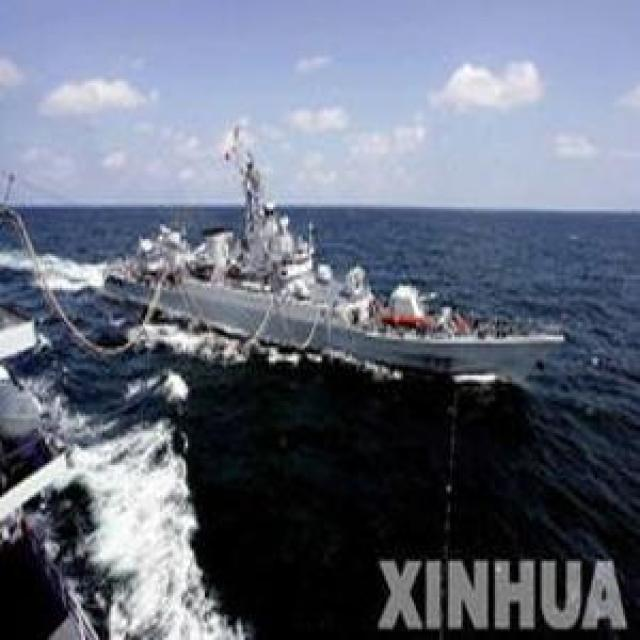navalvessels: (83, 143, 568, 367)
